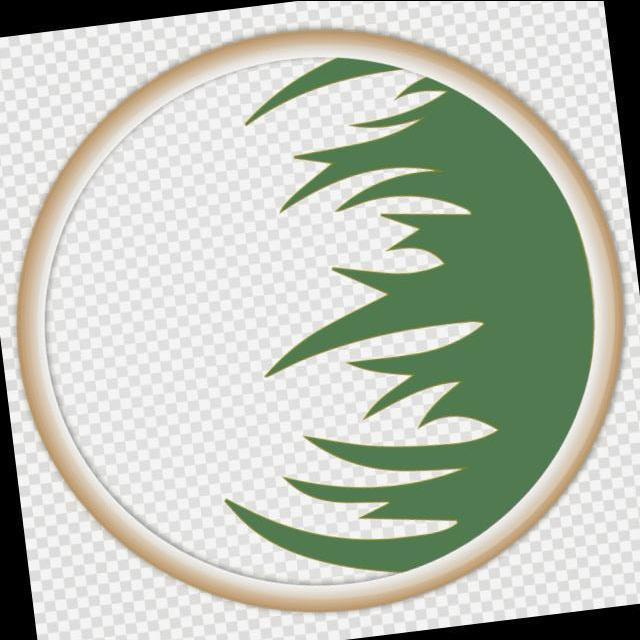Circle: (13, 20, 632, 619)
